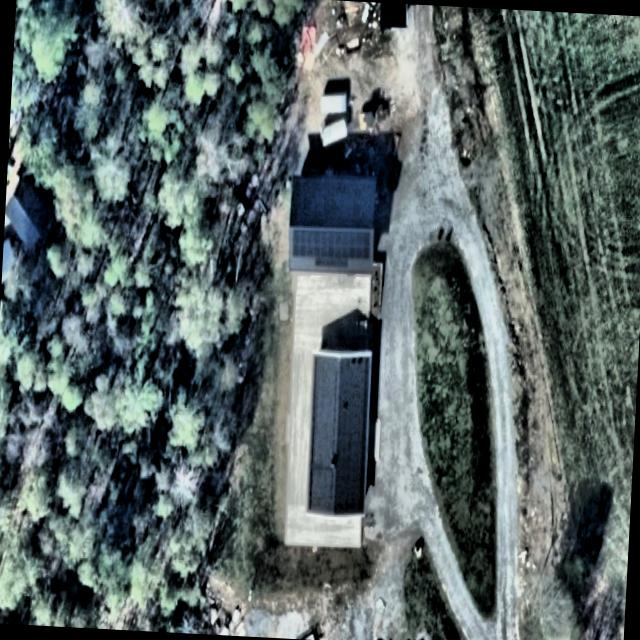roof_pv: (290, 220, 374, 272)
